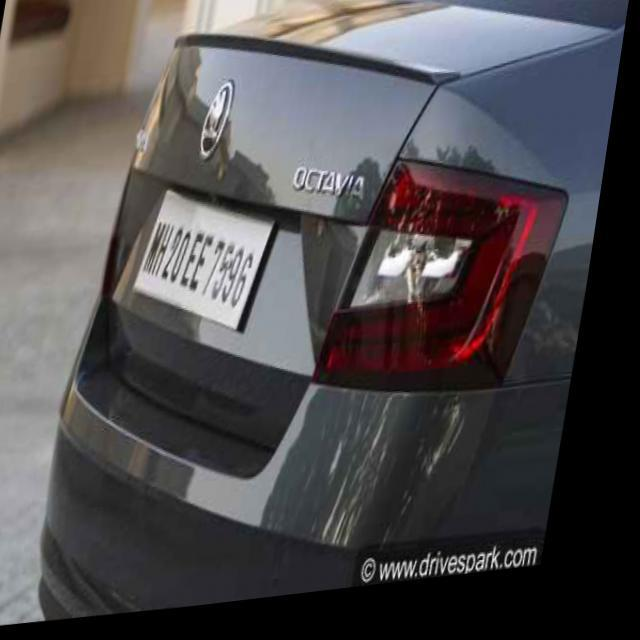license_plate: (128, 204, 289, 327)
